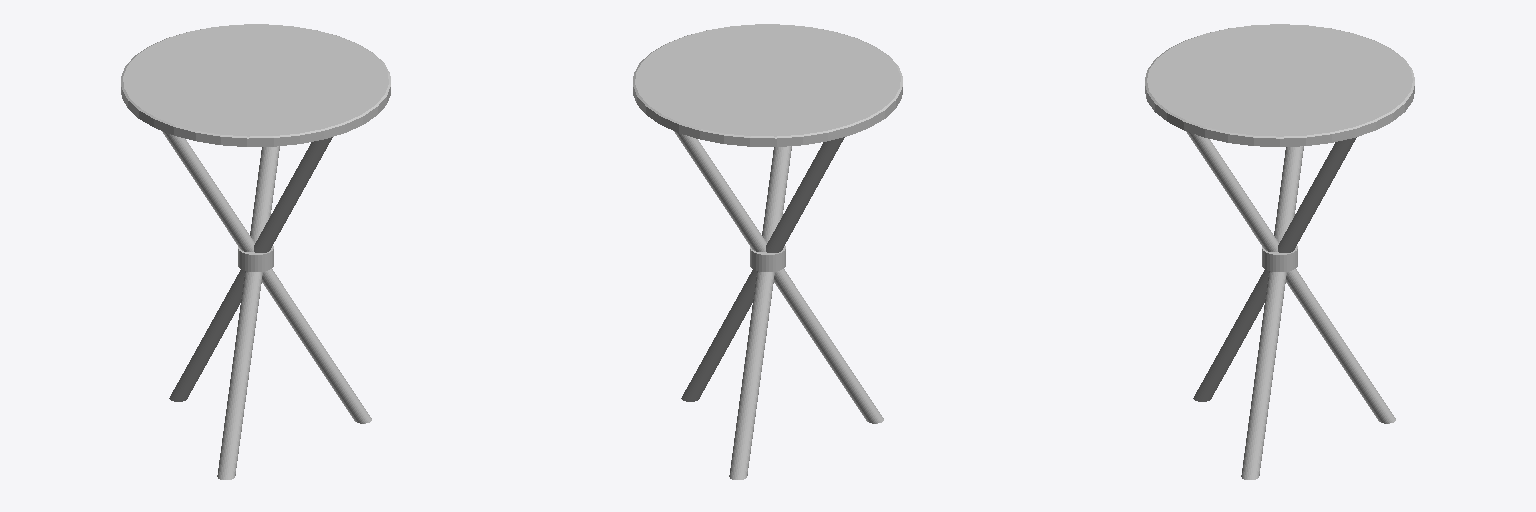
The model's file is N_table.obj.
The picture shows the model from 3 angles: view 1: azimuth 30°, elevation 25°; view 2: azimuth 150°, elevation 25°; view 3: azimuth 270°, elevation 25°; orthographic projection.
Parts seen in each view (by area): view 1: Cylinder; view 2: Cylinder; view 3: Cylinder.
Part boxes in pixels (left/top/right/bottom): Cylinder: left=121, top=24, right=390, bottom=479; Cylinder: left=633, top=24, right=902, bottom=479; Cylinder: left=1145, top=24, right=1414, bottom=479.
Bounding box in the file's own units: 1.11 × 1.58 × 1.11.